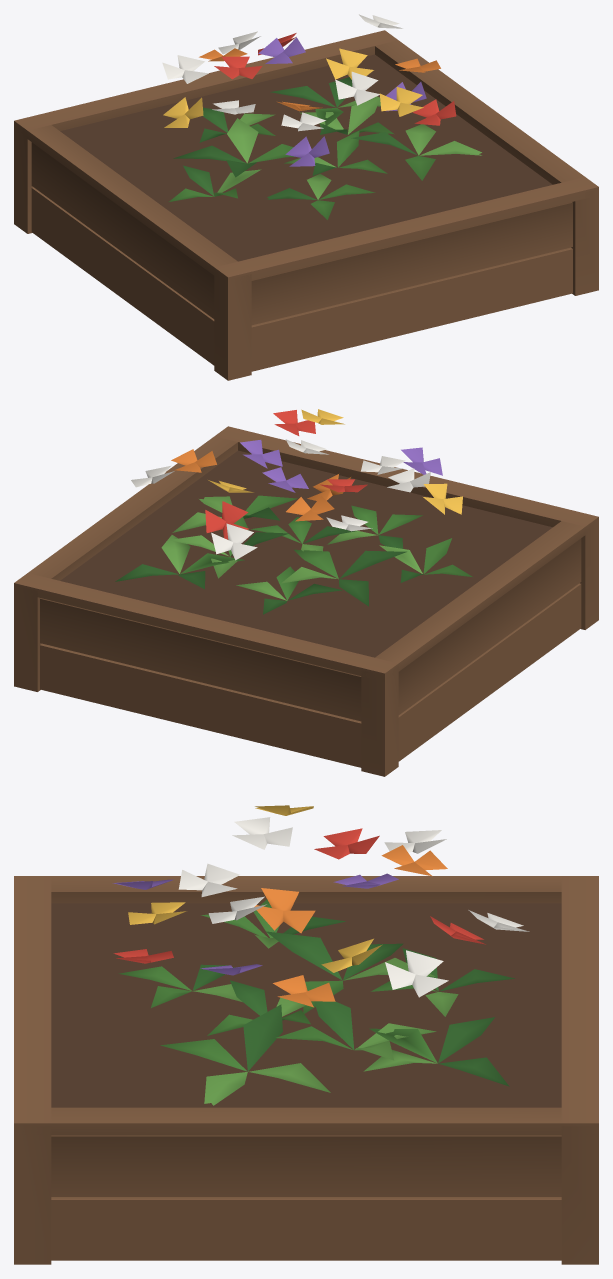
The model's file is flowerbed.far.glb.
3 views of the same model, one above another, from view 1: azimuth 30°, elevation 25°; view 2: azimuth 150°, elevation 25°; view 3: azimuth 270°, elevation 25° (orthographic). The views are drawn at different scales.
Parts seen in each view (by area): view 1: flowerbed; view 2: flowerbed; view 3: flowerbed.
Part boxes in pixels (box(x1,y1,x2,y2)): flowerbed: box(14, 14, 598, 380); flowerbed: box(14, 409, 598, 776); flowerbed: box(14, 805, 598, 1264).
Bounding box in the file's own units: 0.94 × 0.475 × 0.94.
